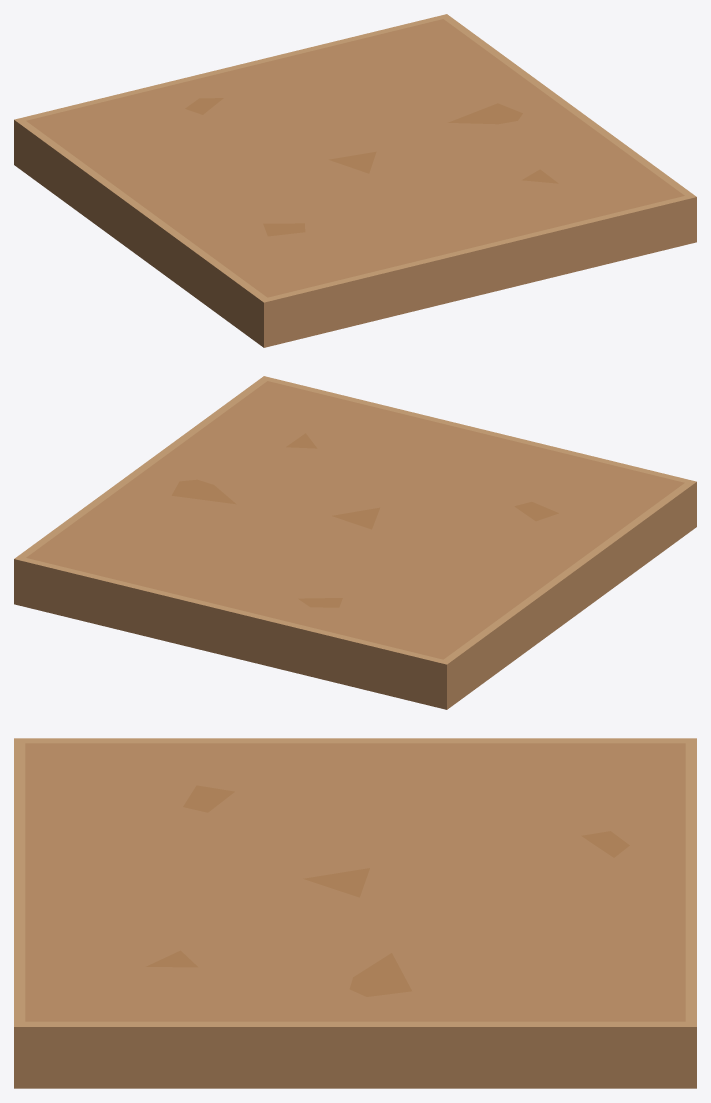
The model's file is ConcrateSlabs_E_2_2.obj.
3 renders of one model, top to bottom at view 1: azimuth 30°, elevation 25°; view 2: azimuth 150°, elevation 25°; view 3: azimuth 270°, elevation 25°, orthographic. The views are drawn at different scales.
Parts seen in each view (by area): view 1: ConcrateSlabs_E_2_2; view 2: ConcrateSlabs_E_2_2; view 3: ConcrateSlabs_E_2_2.
Boxes of the visible parts, x1,y1,x2,y2 form: ConcrateSlabs_E_2_2: (14,14,696,347); ConcrateSlabs_E_2_2: (14,376,696,709); ConcrateSlabs_E_2_2: (14,738,696,1088).
Bounding box in the file's own units: 4 × 0.4 × 4.
